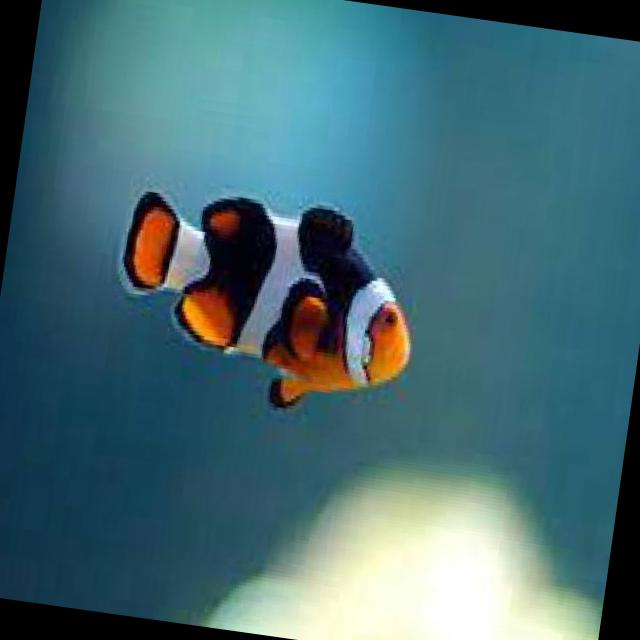ButterflyFish: (102, 174, 429, 429)
